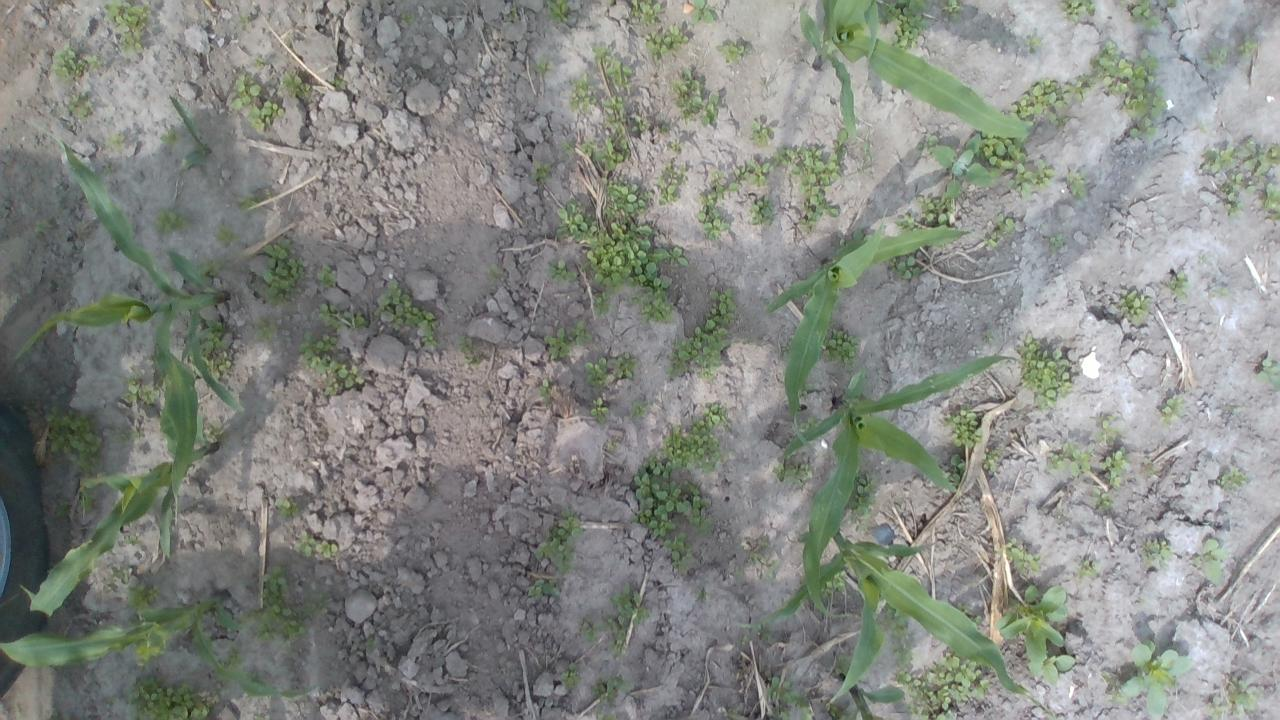Maize: (10, 123, 248, 564), (778, 354, 1018, 620), (772, 525, 1058, 720), (767, 206, 976, 449), (22, 411, 222, 616), (0, 588, 318, 701), (798, 0, 1032, 147), (835, 671, 907, 720), (168, 97, 210, 170)
Weeds: (581, 221, 689, 296), (996, 584, 1075, 686), (1100, 637, 1180, 720), (773, 144, 840, 230), (630, 452, 692, 538), (1017, 331, 1073, 410), (927, 132, 992, 200), (123, 674, 213, 720), (44, 406, 104, 475), (298, 333, 363, 396), (922, 652, 992, 710), (1088, 40, 1160, 94), (664, 326, 730, 384), (1002, 77, 1069, 130), (662, 419, 722, 476), (534, 511, 584, 574), (374, 279, 436, 328), (262, 239, 304, 307), (102, 0, 152, 55), (241, 604, 307, 645), (877, 0, 928, 51), (843, 470, 879, 532), (766, 675, 814, 720), (554, 200, 598, 242), (821, 328, 862, 373), (629, 280, 674, 321), (1010, 158, 1056, 198), (942, 404, 982, 450), (978, 134, 1025, 172), (604, 181, 653, 217), (644, 25, 688, 64), (610, 582, 650, 624), (1190, 537, 1224, 586), (1220, 173, 1256, 219), (671, 70, 704, 120), (1120, 87, 1168, 121), (1236, 140, 1280, 176), (1048, 440, 1091, 476), (697, 193, 729, 241), (318, 302, 369, 332), (704, 288, 736, 334), (686, 484, 714, 536), (49, 44, 85, 84), (896, 669, 938, 702), (656, 166, 689, 207), (1003, 538, 1042, 572), (663, 532, 694, 574), (592, 139, 631, 172), (230, 72, 262, 111), (1098, 444, 1126, 488), (260, 566, 290, 606), (1119, 289, 1154, 323), (735, 158, 776, 187), (878, 602, 911, 638), (248, 100, 286, 130), (592, 674, 630, 704), (570, 74, 598, 114), (919, 195, 954, 227), (120, 376, 160, 404), (542, 326, 573, 362), (940, 452, 968, 489), (1200, 142, 1232, 174), (197, 318, 225, 354), (1228, 678, 1259, 710), (151, 210, 188, 236), (278, 71, 312, 99), (888, 254, 922, 282), (1128, 0, 1160, 29), (604, 618, 628, 656), (628, 0, 663, 26), (773, 462, 814, 484), (905, 702, 955, 720), (582, 356, 610, 388), (600, 96, 626, 130), (1255, 356, 1280, 391), (1095, 412, 1122, 444), (604, 56, 632, 86), (202, 350, 232, 378), (1140, 537, 1172, 562), (711, 169, 738, 198), (717, 40, 748, 65), (1160, 397, 1186, 426), (820, 568, 845, 598), (1062, 0, 1096, 22), (221, 640, 244, 672), (1070, 74, 1096, 102), (1216, 468, 1249, 490), (1065, 167, 1089, 197), (1128, 118, 1158, 142), (526, 578, 562, 598), (546, 258, 578, 280), (68, 93, 94, 120), (1166, 271, 1190, 300), (1263, 182, 1280, 222), (690, 0, 717, 25), (291, 530, 316, 557), (838, 227, 872, 246), (750, 120, 774, 146), (275, 496, 301, 520), (702, 403, 728, 427), (614, 354, 640, 378), (571, 319, 594, 346), (752, 198, 774, 226), (589, 396, 611, 424), (894, 213, 922, 234), (546, 0, 570, 24), (306, 592, 328, 618), (1092, 487, 1114, 512), (832, 127, 848, 160), (993, 212, 1017, 234), (981, 446, 1003, 470), (1205, 46, 1230, 67), (560, 662, 580, 688), (1076, 557, 1100, 578), (592, 292, 610, 320), (702, 96, 719, 125), (317, 264, 337, 288), (200, 254, 224, 274), (958, 606, 984, 624), (79, 487, 96, 513), (215, 223, 235, 245), (893, 644, 913, 666), (795, 415, 820, 432), (532, 160, 554, 178), (112, 430, 140, 444), (1237, 38, 1257, 57), (254, 318, 273, 338), (32, 219, 50, 240), (141, 586, 163, 603), (456, 334, 474, 354), (940, 0, 961, 17), (630, 112, 646, 134), (317, 542, 339, 558), (105, 133, 124, 151), (422, 328, 441, 346), (584, 622, 602, 641), (629, 400, 647, 418), (158, 131, 180, 145), (986, 232, 1004, 248), (110, 568, 129, 583), (239, 195, 257, 210), (538, 377, 552, 396), (1049, 233, 1065, 249), (592, 46, 607, 63), (580, 140, 596, 155), (1210, 286, 1230, 298), (1208, 705, 1224, 720), (754, 624, 769, 640), (399, 12, 415, 26), (1024, 36, 1042, 48), (329, 78, 346, 90), (534, 60, 547, 74), (52, 499, 66, 512), (86, 54, 97, 70), (982, 330, 994, 344), (860, 142, 871, 156), (560, 142, 574, 152), (102, 164, 113, 176), (1145, 461, 1154, 474), (254, 714, 271, 720), (670, 141, 680, 151), (750, 552, 761, 561), (238, 16, 250, 24), (735, 566, 743, 578), (1166, 0, 1177, 7), (123, 538, 129, 545)
